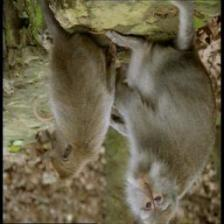monkey: (130, 148, 174, 222), (40, 125, 65, 166)
